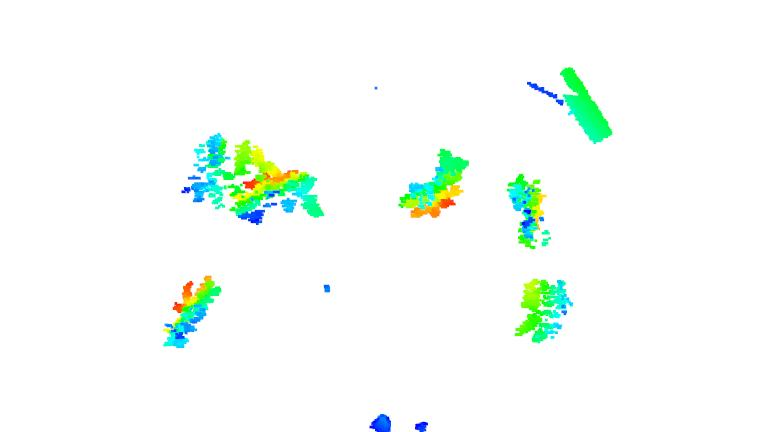chickpea: (186, 135, 333, 227), (398, 144, 469, 219), (156, 272, 222, 352), (504, 169, 557, 253), (513, 278, 573, 346)
